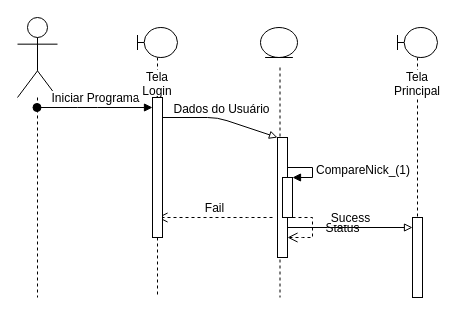
Some shapes in this 458 by 315 pixel diagram are drawn without their labels. The shapes that lost their labels are listed below. From the top down, each one's box as (x1, y1, x2, y2) in pixels, then its label:
(16, 16, 58, 298): Usuário
(236, 66, 322, 298): :Users
